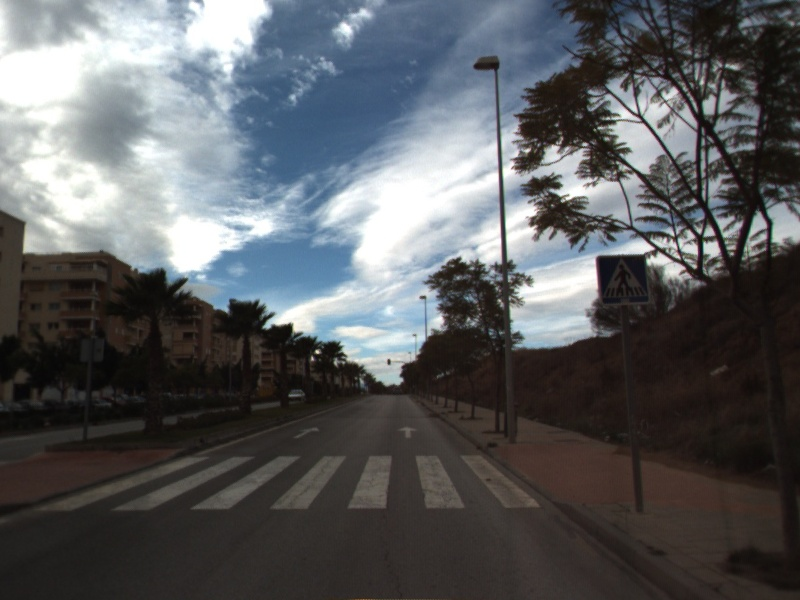STRAIGHT: (291, 424, 322, 440), (396, 424, 420, 440)
